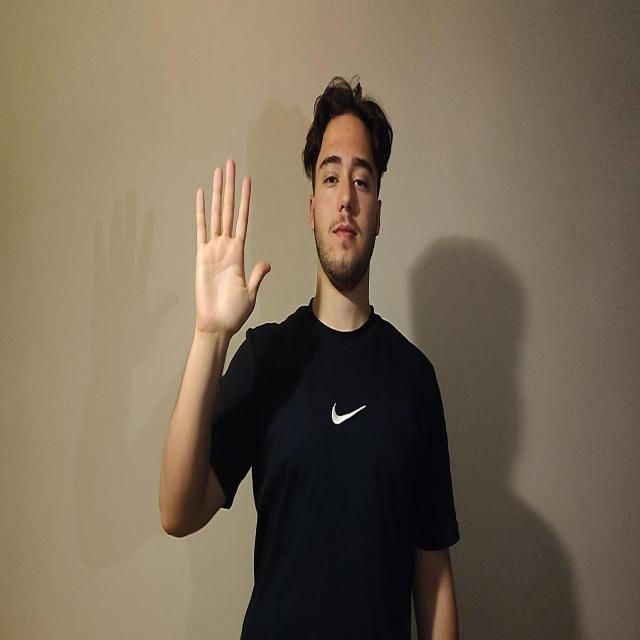hello: (194, 156, 271, 338)
